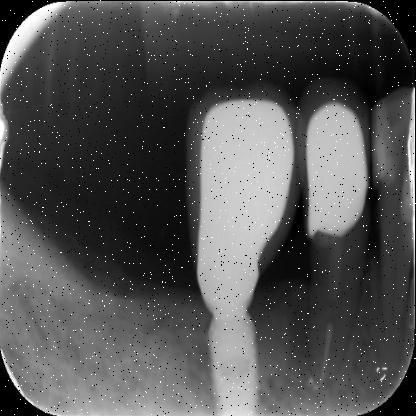Bicon: (206, 317, 263, 416)
